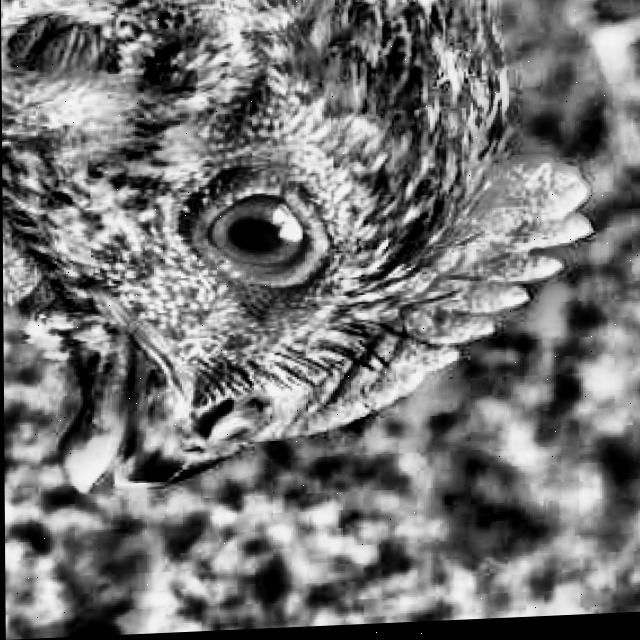Healthy: (168, 152, 351, 333)
